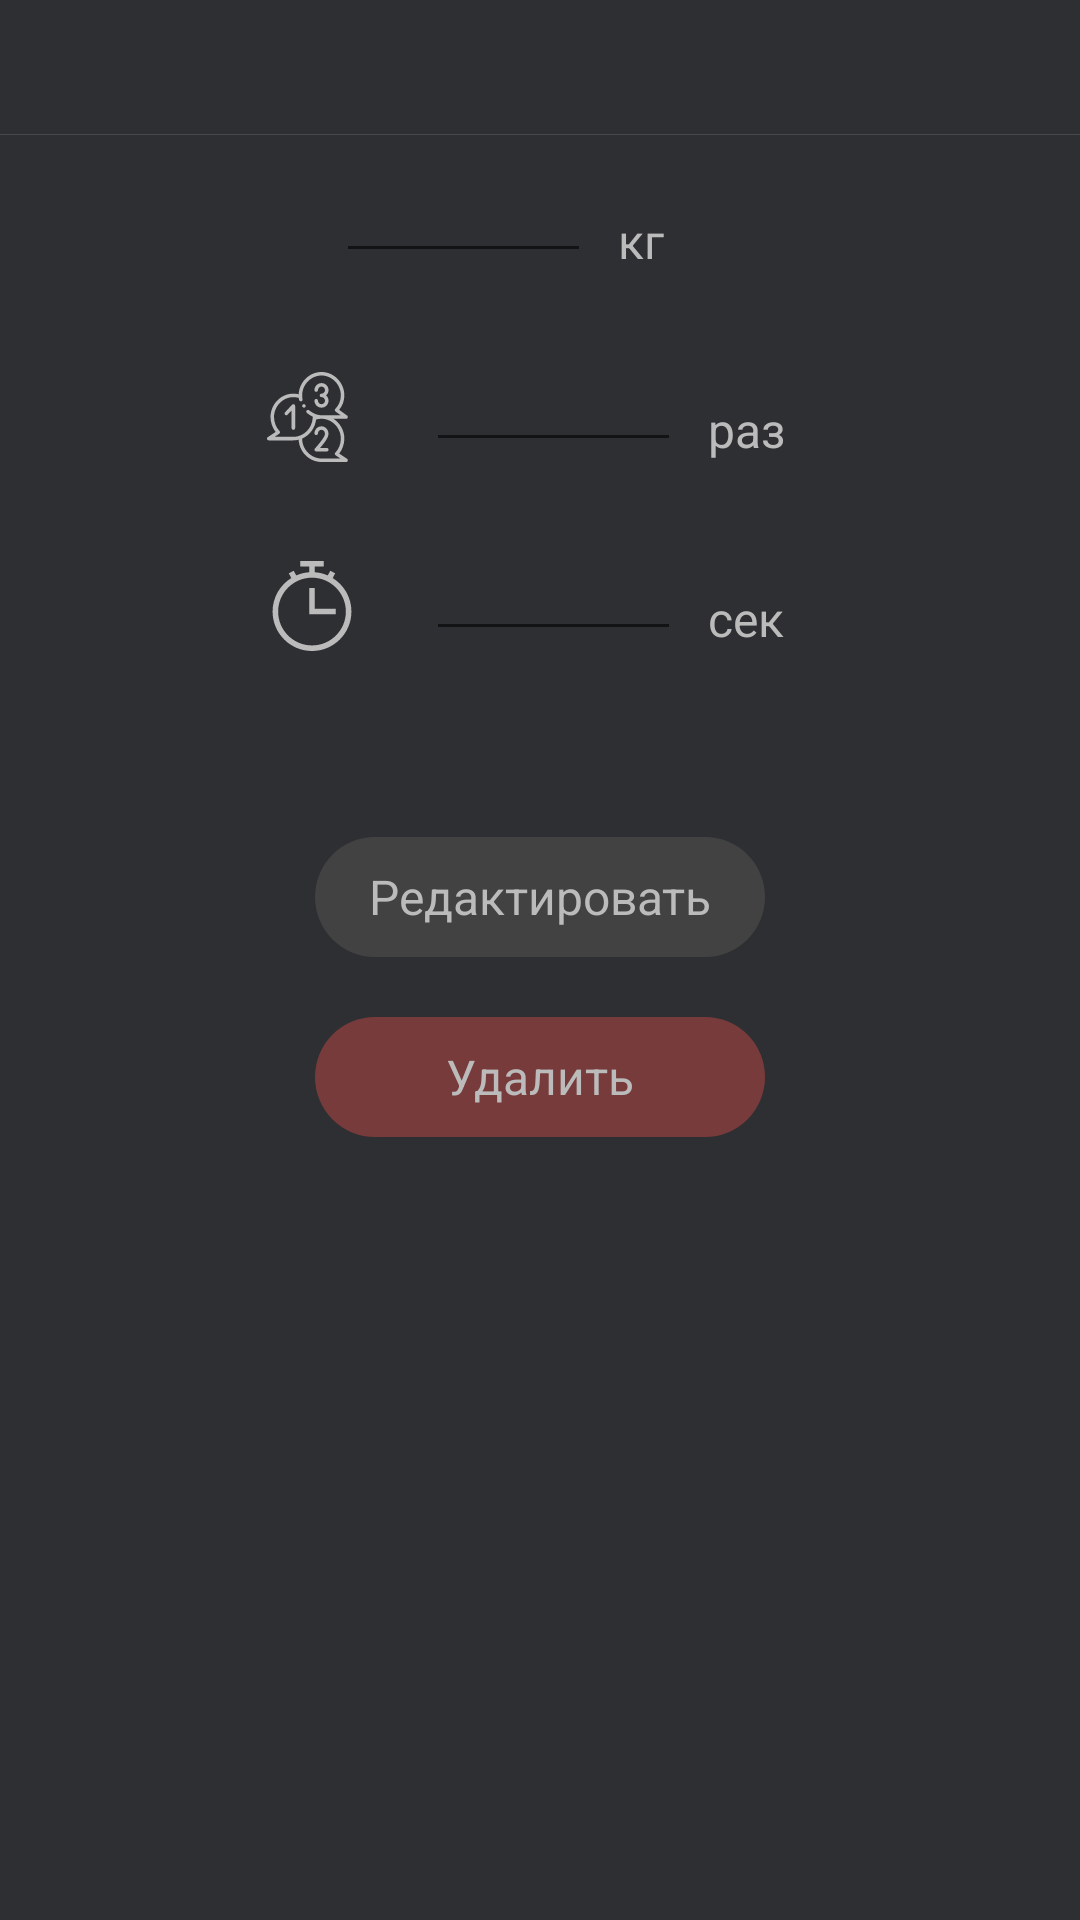

Locate icon controls on the screen. Image size 1080px x 1920px, boxes as (x1, y1, x2, y2).
timer: (272, 561, 352, 651)
